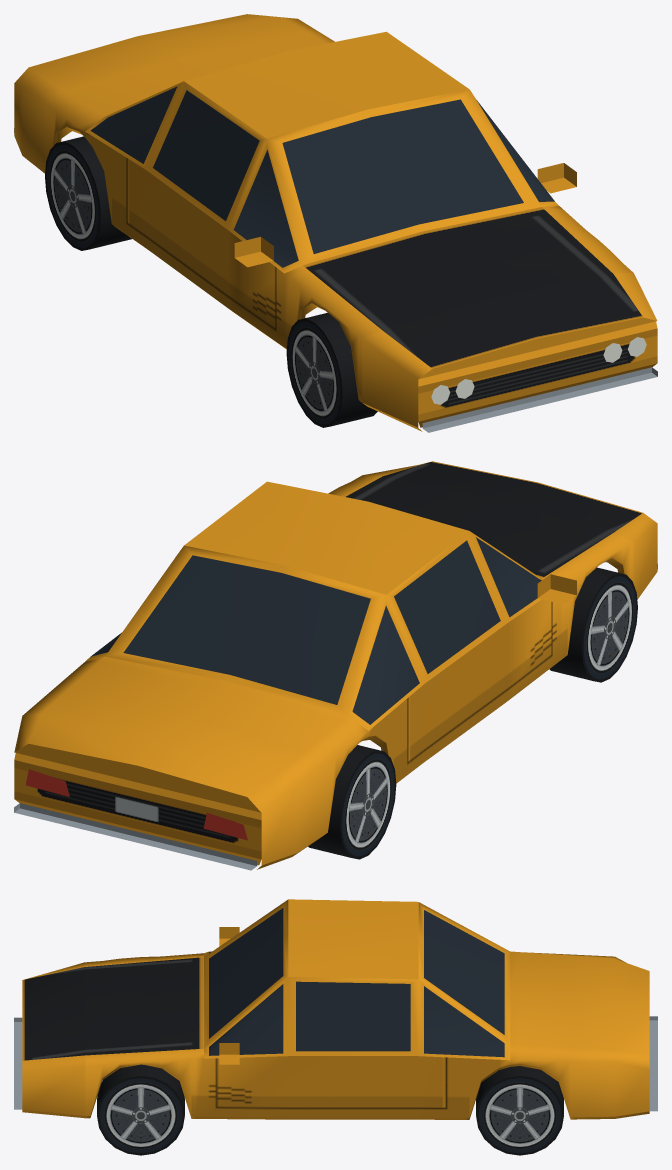
The model's file is cc96-remodeled.glb.
3 views of the same model, one above another, from view 1: azimuth 30°, elevation 25°; view 2: azimuth 150°, elevation 25°; view 3: azimuth 270°, elevation 25° (orthographic). The views are drawn at different scales.
Parts seen in each view (by area): view 1: Body, Cylinder.001, Cylinder.002; view 2: Body, Cylinder.001, Cylinder.002; view 3: Body, Cylinder, Cylinder.003.
Boxes of the visible parts, <box> form: Body: <box>14,14,657,432</box>; Cylinder.001: <box>286,312,377,427</box>; Cylinder.002: <box>45,136,131,250</box>; Body: <box>14,461,657,870</box>; Cylinder.001: <box>549,567,637,682</box>; Cylinder.002: <box>308,745,396,859</box>; Body: <box>14,899,657,1119</box>; Cylinder: <box>97,1064,184,1155</box>; Cylinder.003: <box>476,1066,563,1155</box>.
Bounding box in the file's own units: 1.63 × 0.99 × 3.51.
7 materials, 5 textured.
